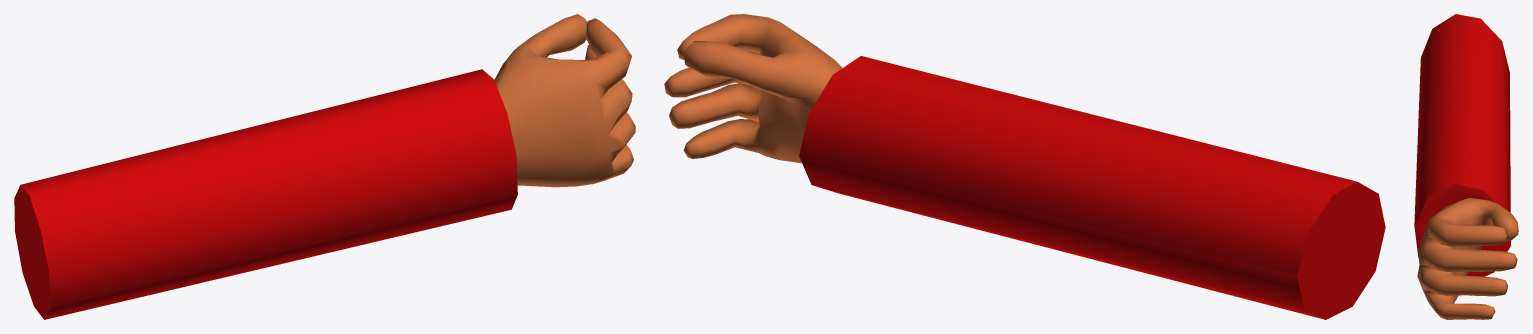
File: arm.fbx
3 renders of one model, left to right at view 1: azimuth 30°, elevation 25°; view 2: azimuth 150°, elevation 25°; view 3: azimuth 270°, elevation 25°, orthographic. The views are drawn at different scales.
Parts seen in each view (by area): view 1: Hand Mesh.1; view 2: Hand Mesh.1; view 3: Hand Mesh.1.
Part boxes in pixels (<box>): Hand Mesh.1: <box>14,14,635,319</box>; Hand Mesh.1: <box>664,14,1385,319</box>; Hand Mesh.1: <box>1414,14,1518,319</box>.
Size of the model in its own units: 653 by 139 by 126.
